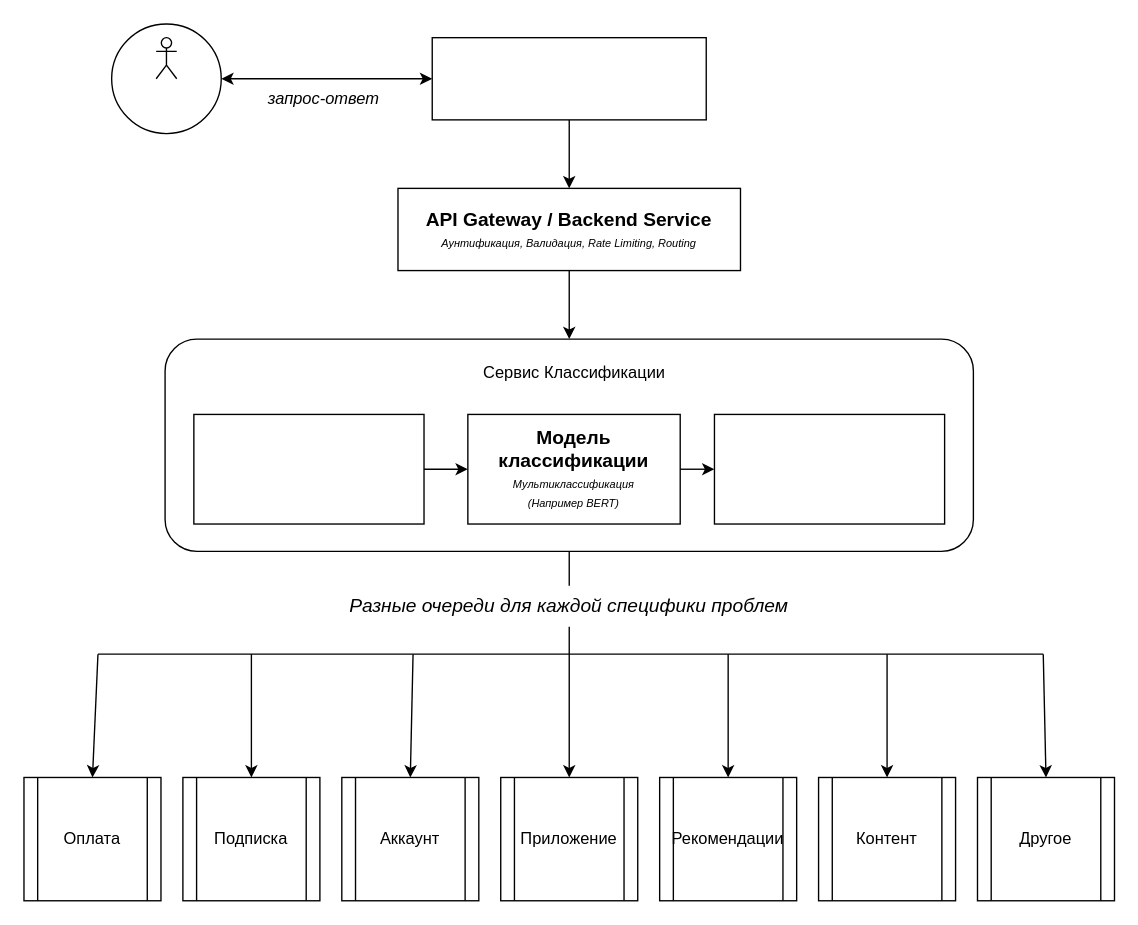
This 1138x925 diagram has some shape labels left out. The box of each missing label's shape, as (x1, y1, x2, y2) in pixels:
Routing правила Карта на основе предсказаний выбор очереди: (713, 413, 945, 524)
Мобильное / Web приложение Пользовател отправляет запрос в поддержку: (431, 36, 706, 120)
Пользователь: (155, 36, 177, 79)
Текст Preprocessing Определитель языка, Очистка, Нормализация, Токенизация: (192, 413, 424, 524)
